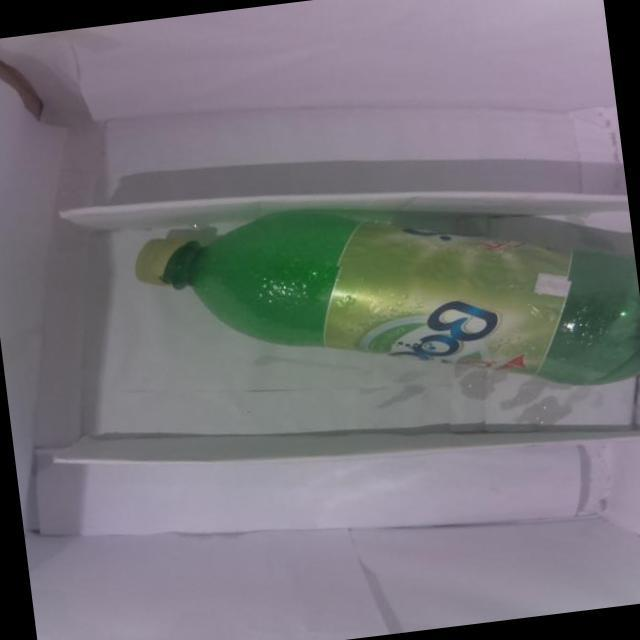good: (121, 157, 640, 444)
